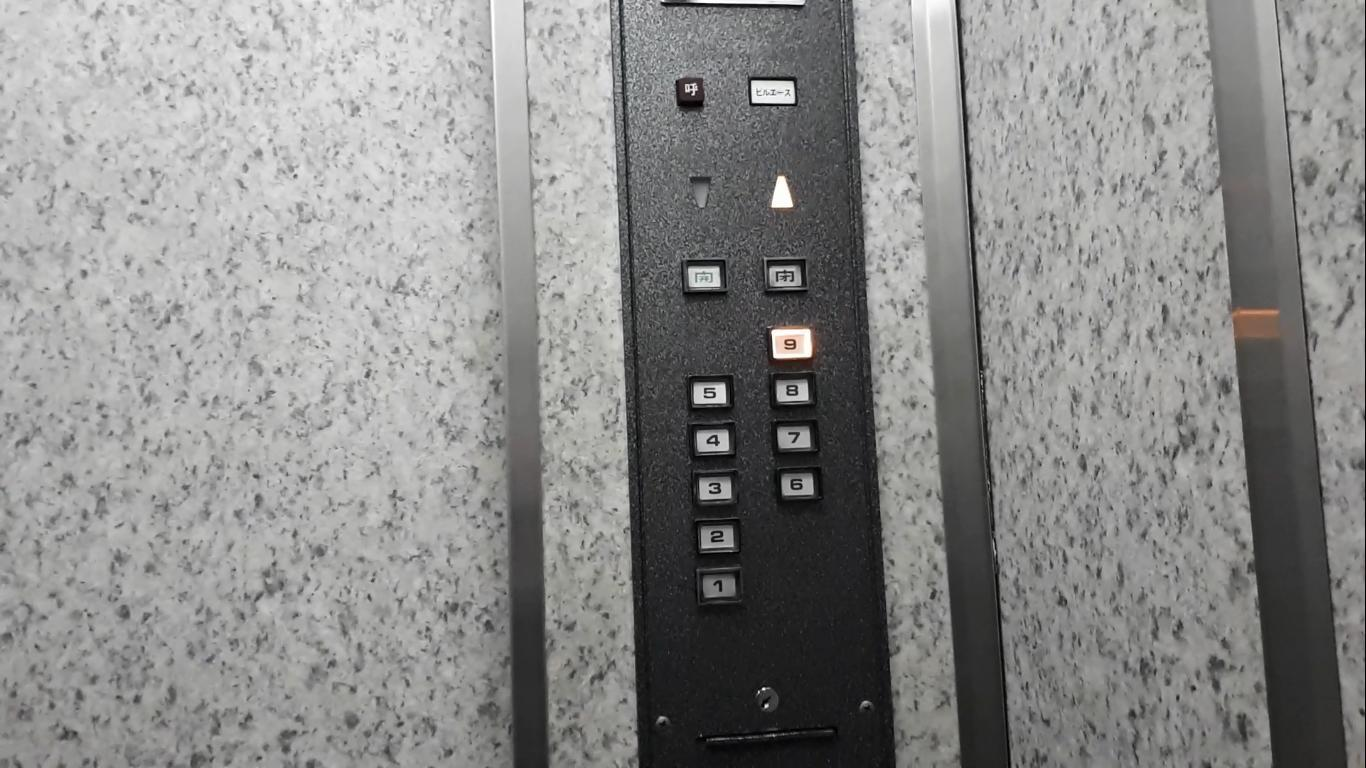1: (690, 561, 746, 610)
2: (689, 512, 744, 557)
3: (687, 462, 742, 508)
4: (684, 416, 740, 460)
5: (681, 369, 736, 412)
6: (769, 462, 825, 505)
7: (765, 413, 821, 457)
8: (764, 367, 821, 411)
9: (765, 322, 818, 364)
down: (685, 169, 716, 210)
keyhole: (748, 681, 783, 716)
unknown: (759, 250, 811, 295), (676, 255, 730, 297), (743, 72, 801, 108), (671, 74, 706, 111)
up: (765, 170, 796, 211)
